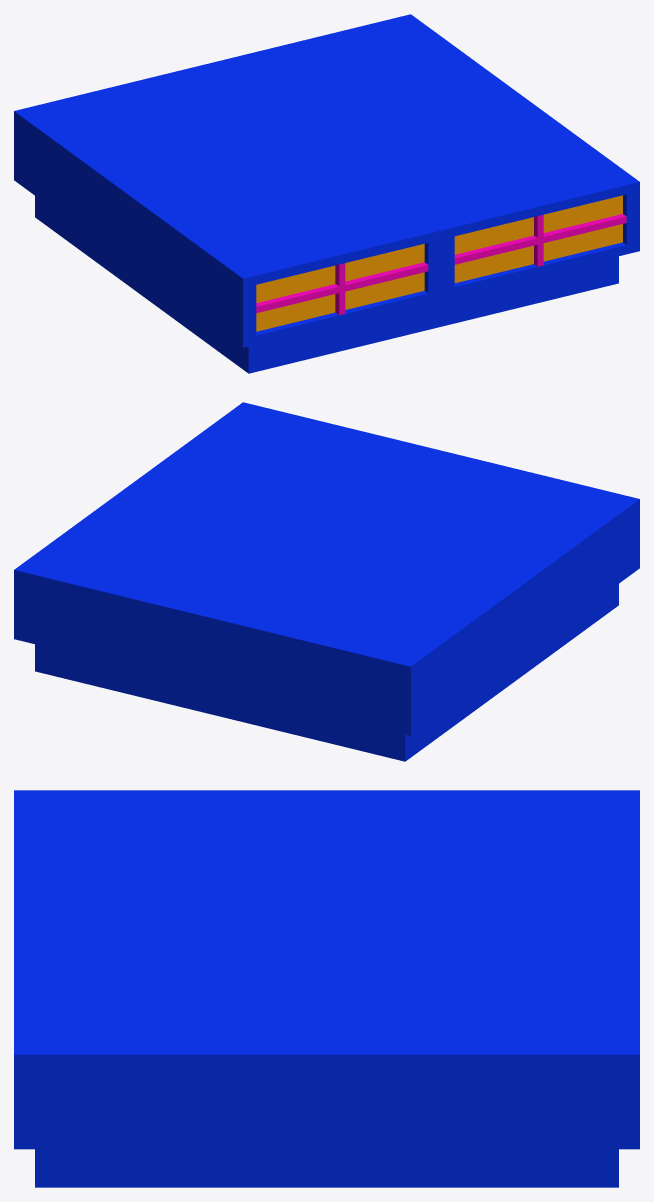
File: parte01.FBX
3 renders of one model, top to bottom at view 1: azimuth 30°, elevation 25°; view 2: azimuth 150°, elevation 25°; view 3: azimuth 270°, elevation 25°, orthographic. The views are drawn at different scales.
Visible parts, largest first — view 1: Box007; view 2: Box007; view 3: Box007.
Boxes of the visible parts, box(x1,y1,x2,y2) form: Box007: box(14, 14, 639, 373); Box007: box(14, 402, 639, 761); Box007: box(14, 790, 639, 1187).
Size of the model in its own units: 600 by 150 by 600.
